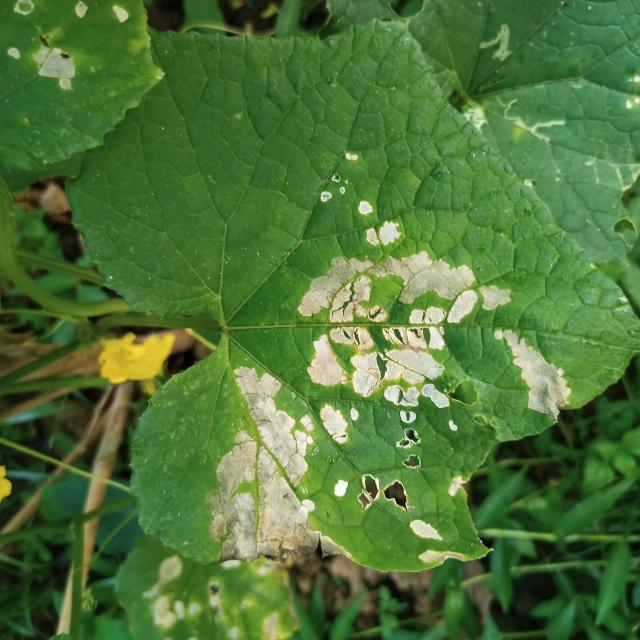disease_cucumber: (296, 149, 576, 425), (218, 359, 478, 580)
